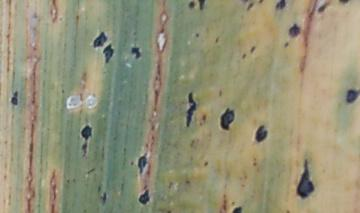tarspot: (292, 154, 320, 201), (181, 88, 199, 131), (217, 103, 237, 133), (250, 122, 270, 145), (342, 83, 360, 107), (102, 41, 116, 69), (285, 20, 304, 40), (134, 151, 149, 176), (78, 122, 95, 143), (90, 28, 107, 48), (126, 43, 144, 61), (136, 189, 153, 206), (8, 87, 21, 108), (314, 1, 329, 16), (230, 202, 246, 213), (272, 1, 287, 12), (184, 1, 199, 11), (197, 1, 205, 13)
